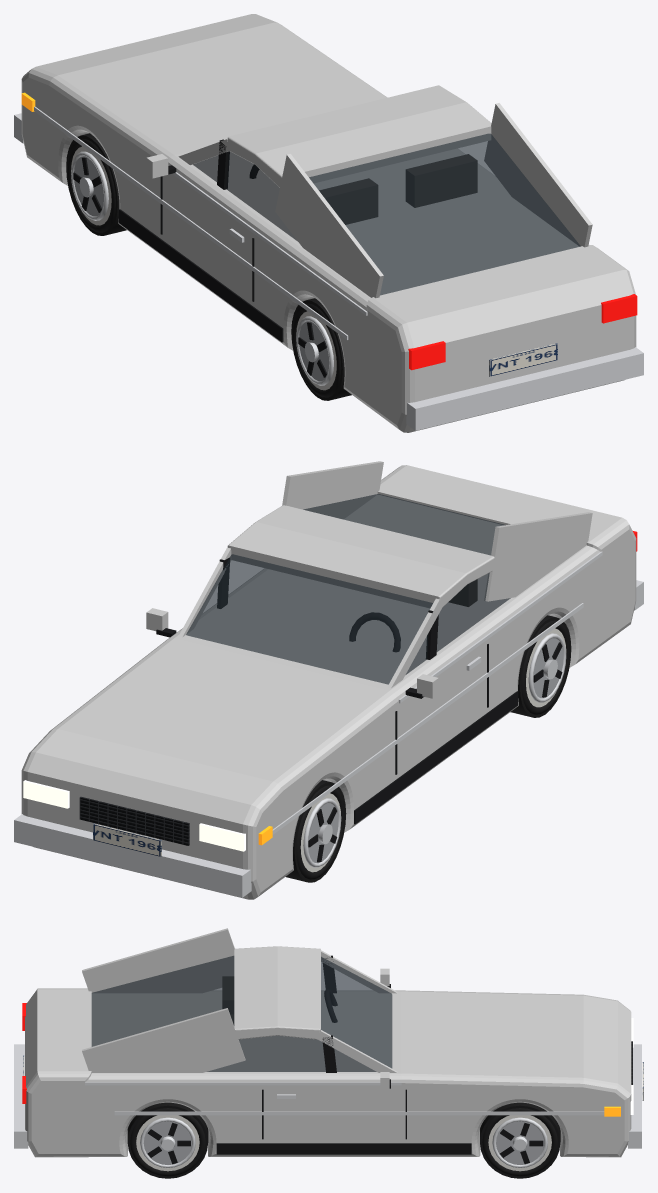
Rendered from car-coupe-T6A_PDWE.glb.
3 views of the same model, one above another, from view 1: azimuth 30°, elevation 25°; view 2: azimuth 150°, elevation 25°; view 3: azimuth 270°, elevation 25° (orthographic). The views are drawn at different scales.
Visible parts, largest first — view 1: paint, part0, part2, part9, part1, part10, part12, part6, part7, part11; view 2: paint, part0, part2, part1, part10, part5, part3, part12, part7, part11; view 3: paint, part0, part2, part1, part10, part12, part11, part9.
Part boxes in pixels (x1,y1,x2,y2): paint: [21, 14, 636, 432]; part0: [193, 133, 580, 295]; part2: [14, 106, 643, 430]; part9: [319, 154, 477, 224]; part1: [73, 139, 327, 377]; part10: [66, 133, 351, 400]; part12: [74, 156, 329, 381]; part6: [408, 294, 637, 370]; part7: [489, 343, 557, 376]; part11: [71, 146, 336, 390]; paint: [21, 461, 636, 899]; part0: [186, 494, 510, 684]; part2: [14, 551, 643, 897]; part1: [156, 557, 562, 862]; part10: [285, 615, 571, 882]; part5: [79, 796, 189, 845]; part3: [23, 780, 245, 851]; part12: [308, 638, 563, 863]; part7: [93, 823, 161, 856]; part11: [300, 628, 566, 872]; paint: [25, 928, 631, 1157]; part0: [91, 956, 392, 1071]; part2: [14, 1044, 641, 1167]; part1: [147, 955, 543, 1164]; part10: [127, 1102, 560, 1178]; part12: [143, 1121, 544, 1164]; part11: [136, 1115, 551, 1171]; part9: [222, 976, 233, 1024].
Size of the model in its own units: 2.18 by 1.55 by 5.31.
14 materials, 2 textured.
